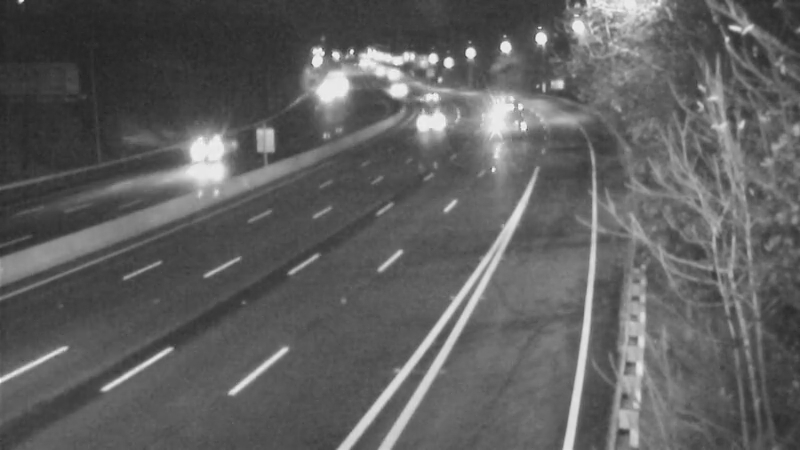vehicle: (369, 66, 419, 116), (402, 71, 452, 121), (486, 81, 536, 131), (404, 99, 454, 149), (177, 123, 227, 173)
